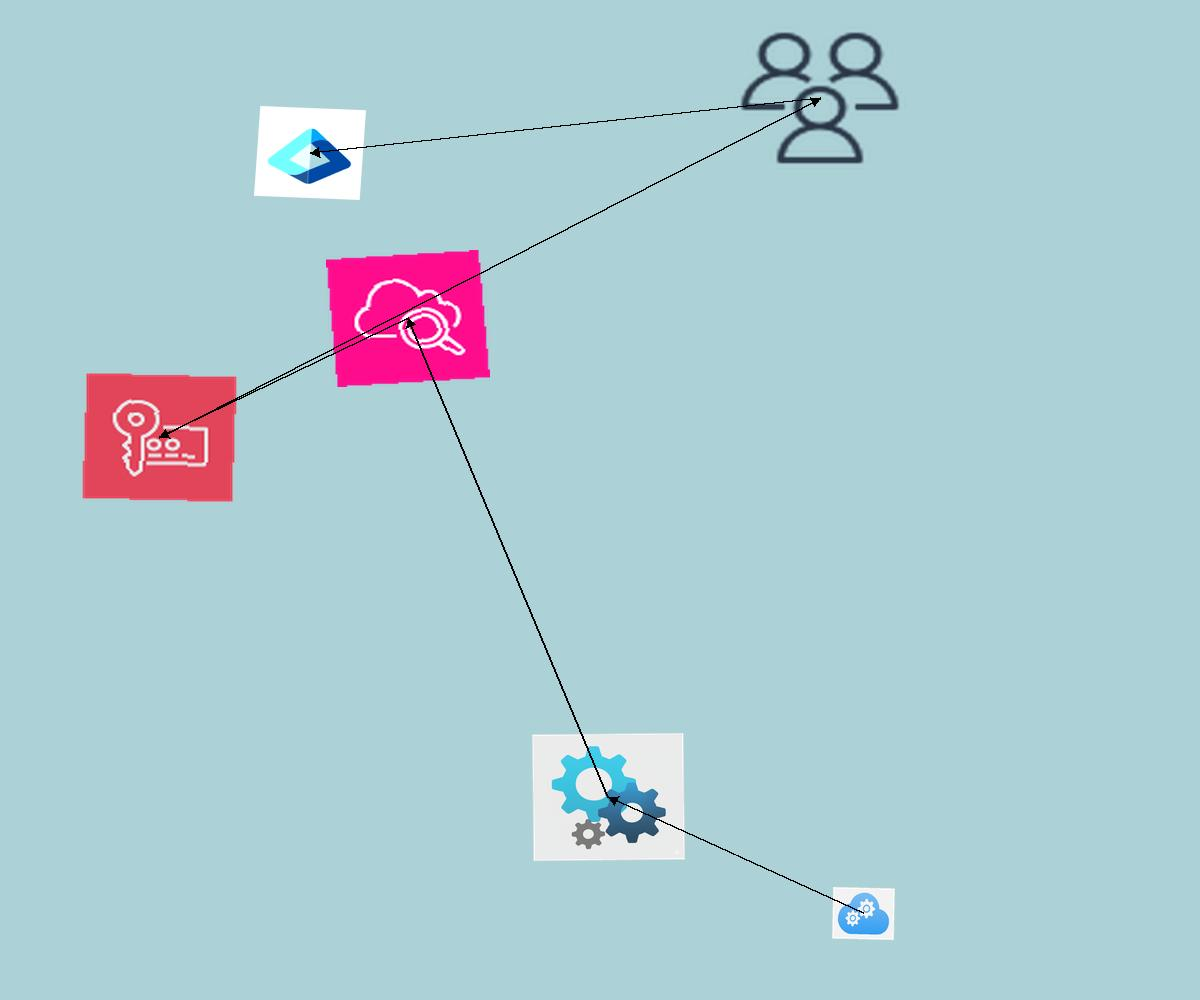AWS-CloudWatch: (326, 250, 490, 387)
AWS-Key-Management-Service: (81, 372, 238, 503)
AWS-Res_Users: (731, 24, 909, 172)
Azure_api: (532, 733, 685, 861)
Azure_cloud_services: (832, 887, 895, 940)
Azure_microsoft_entra: (254, 106, 366, 200)
